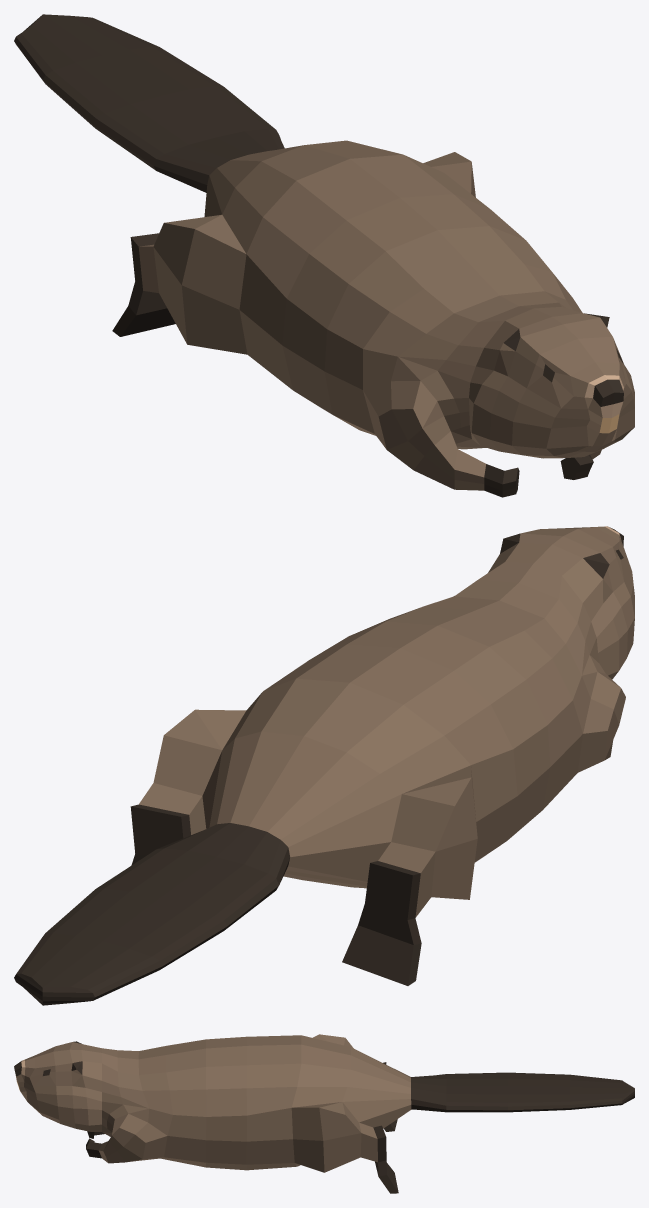
File: WorkingBeaver_1.0.fbx
The picture shows the model from 3 angles, top to bottom: view 1: azimuth 30°, elevation 25°; view 2: azimuth 150°, elevation 25°; view 3: azimuth 270°, elevation 25°; orthographic projection. The views are drawn at different scales.
Visible parts, largest first — view 1: Beaver_V5; view 2: Beaver_V5; view 3: Beaver_V5.
Boxes of the visible parts, box(x1,y1,x2,y2) form: Beaver_V5: box(14, 14, 634, 497); Beaver_V5: box(14, 526, 634, 1005); Beaver_V5: box(14, 1034, 634, 1193).
Size of the model in its own units: 2.21 by 1.54 by 7.39.
